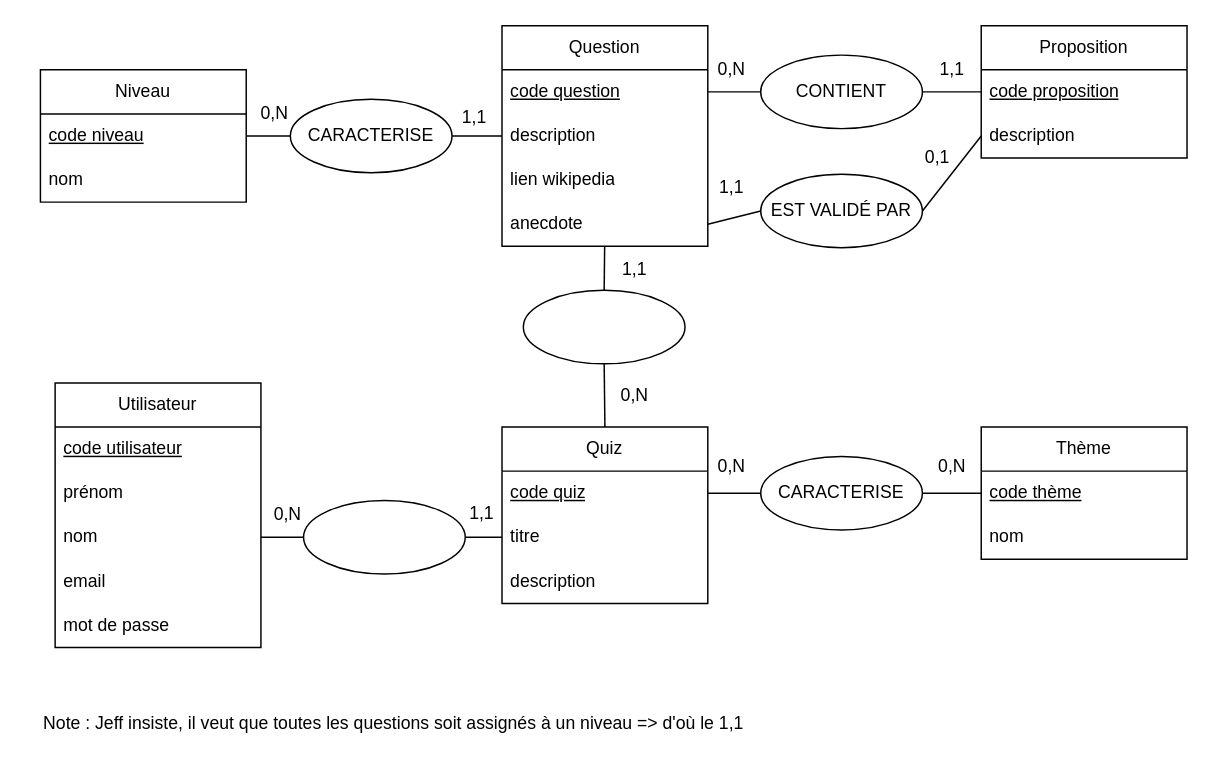
Image size: 1213x772. Some labels were removed from this diagram. The centre of each missing label's shape, as x and y in pixels:
"APPARTIENT" goes at (x=603, y=326).
"EST AUTEUR DE" goes at (x=383, y=536).
